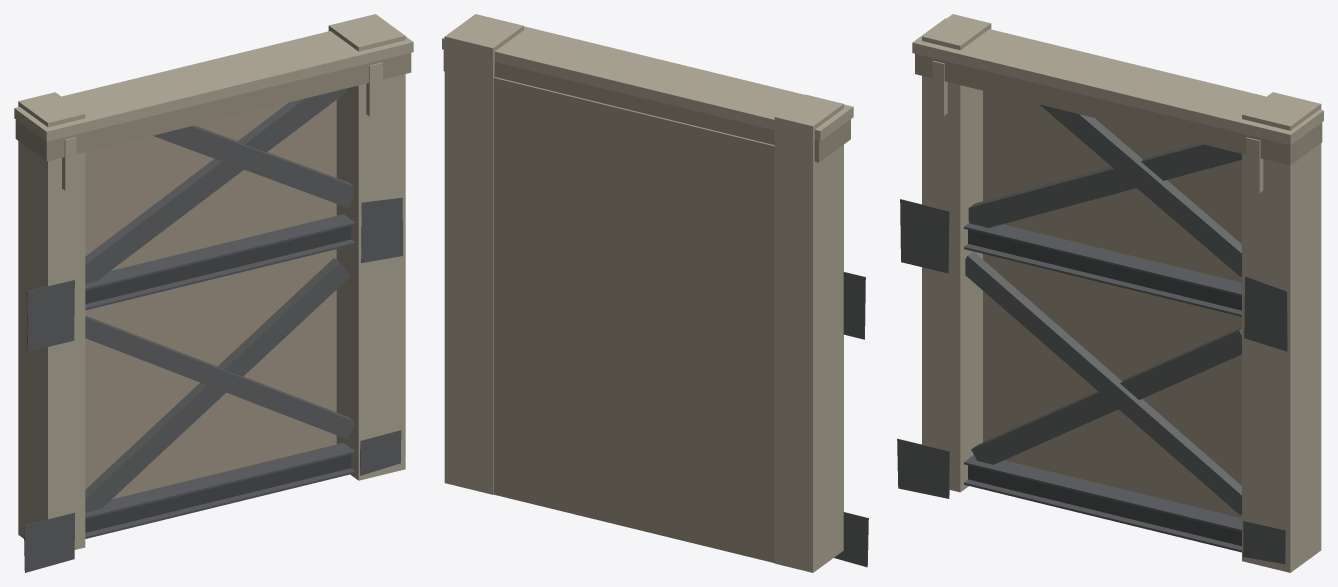
Rendered from huangpu-nanshi-power-station-hall-cross-bracing-lod.glb.
3 views of the same model, side by side, from view 1: azimuth 30°, elevation 25°; view 2: azimuth 150°, elevation 25°; view 3: azimuth 330°, elevation 25° (orthographic). The views are drawn at different scales.
Visible parts, largest first — view 1: 南市发电厂主厅右侧上下两层钢交叉撑; view 2: 南市发电厂主厅右侧上下两层钢交叉撑; view 3: 南市发电厂主厅右侧上下两层钢交叉撑.
Part boxes in pixels (x1=…): 南市发电厂主厅右侧上下两层钢交叉撑: x1=14, y1=14, x2=413, y2=572; 南市发电厂主厅右侧上下两层钢交叉撑: x1=442, y1=14, x2=868, y2=572; 南市发电厂主厅右侧上下两层钢交叉撑: x1=897, y1=14, x2=1323, y2=572.
Size of the model in its own units: 5.59 by 6.15 by 0.85.
